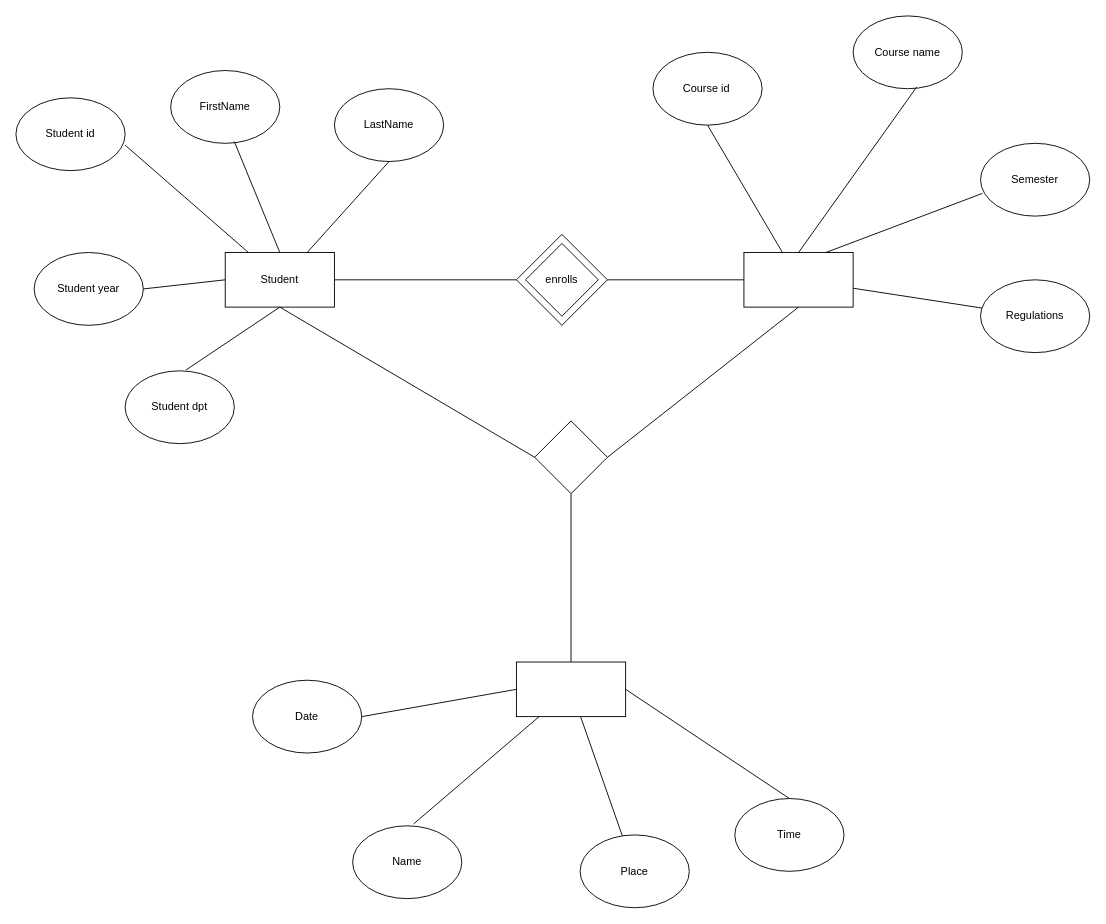
Image size: 1106x924. Some labels were removed from this diagram. Each missing label, with the centre of its shape:
"Courses" goes at (798,279).
"Exams" goes at (571,689).
"Takes" goes at (570,457).
